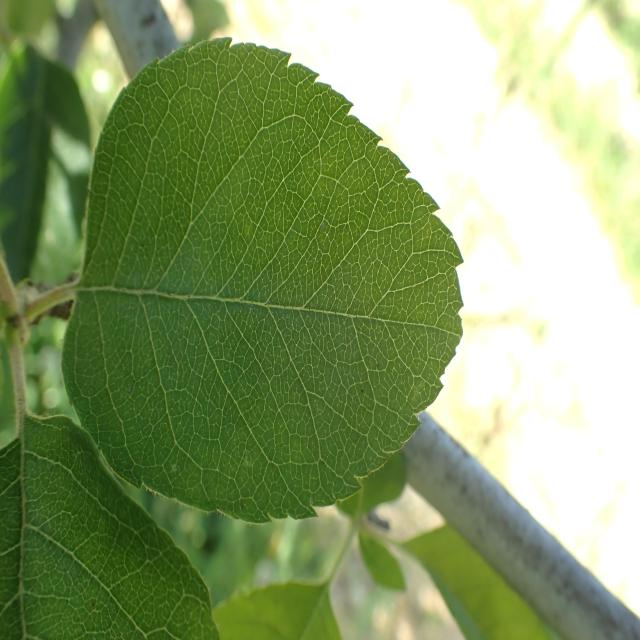healthy: (61, 36, 465, 524), (0, 413, 220, 640)
